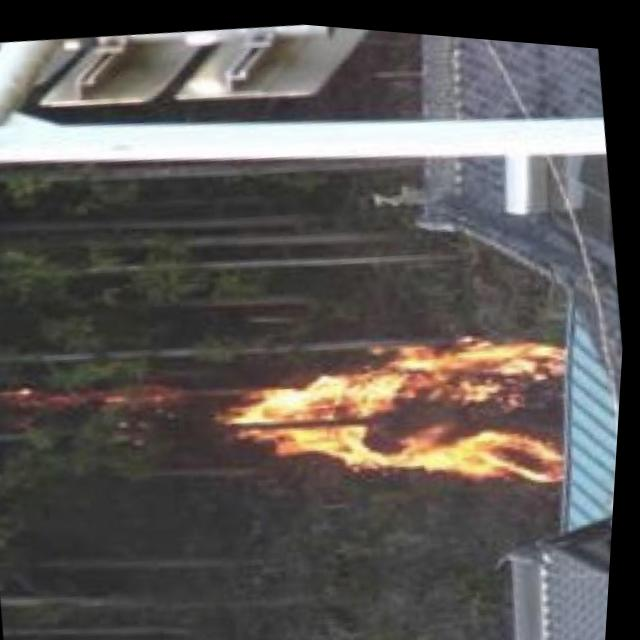Fire: (213, 285, 591, 517)
